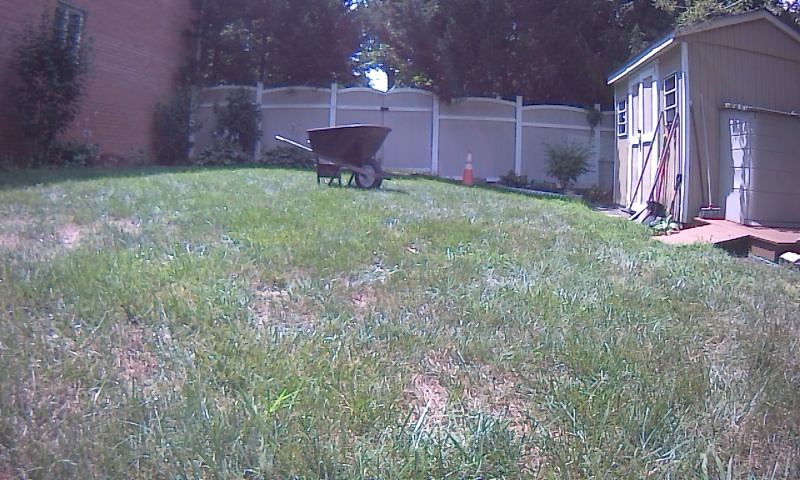wheelbarrow: (263, 110, 420, 212)
